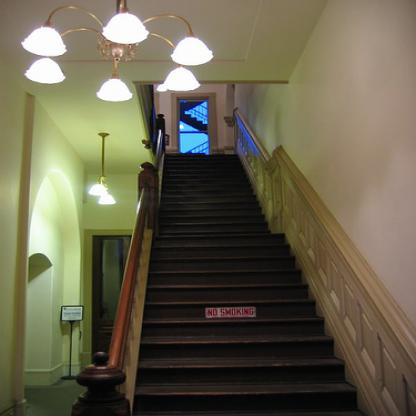stairs: (158, 281, 315, 415)
